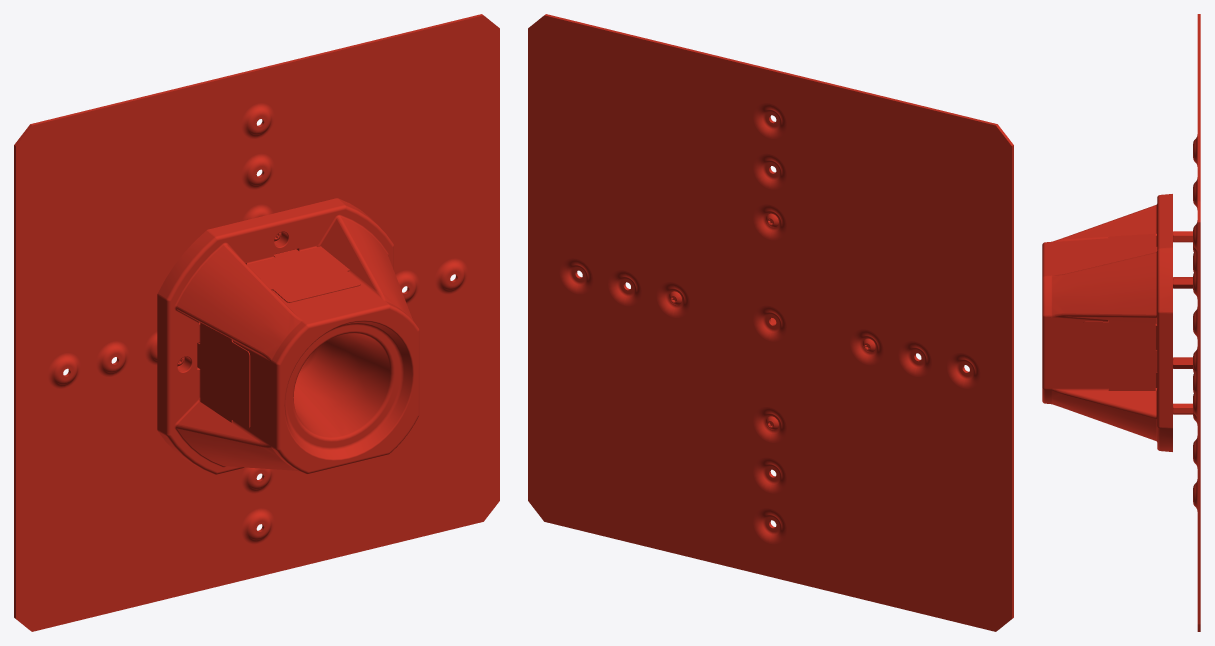
File: goal_alliance.obj
3 renders of one model, left to right at view 1: azimuth 30°, elevation 25°; view 2: azimuth 150°, elevation 25°; view 3: azimuth 270°, elevation 25°, orthographic. The views are drawn at different scales.
Bounding box in the file's own units: 0.3 × 0.3 × 0.1.
